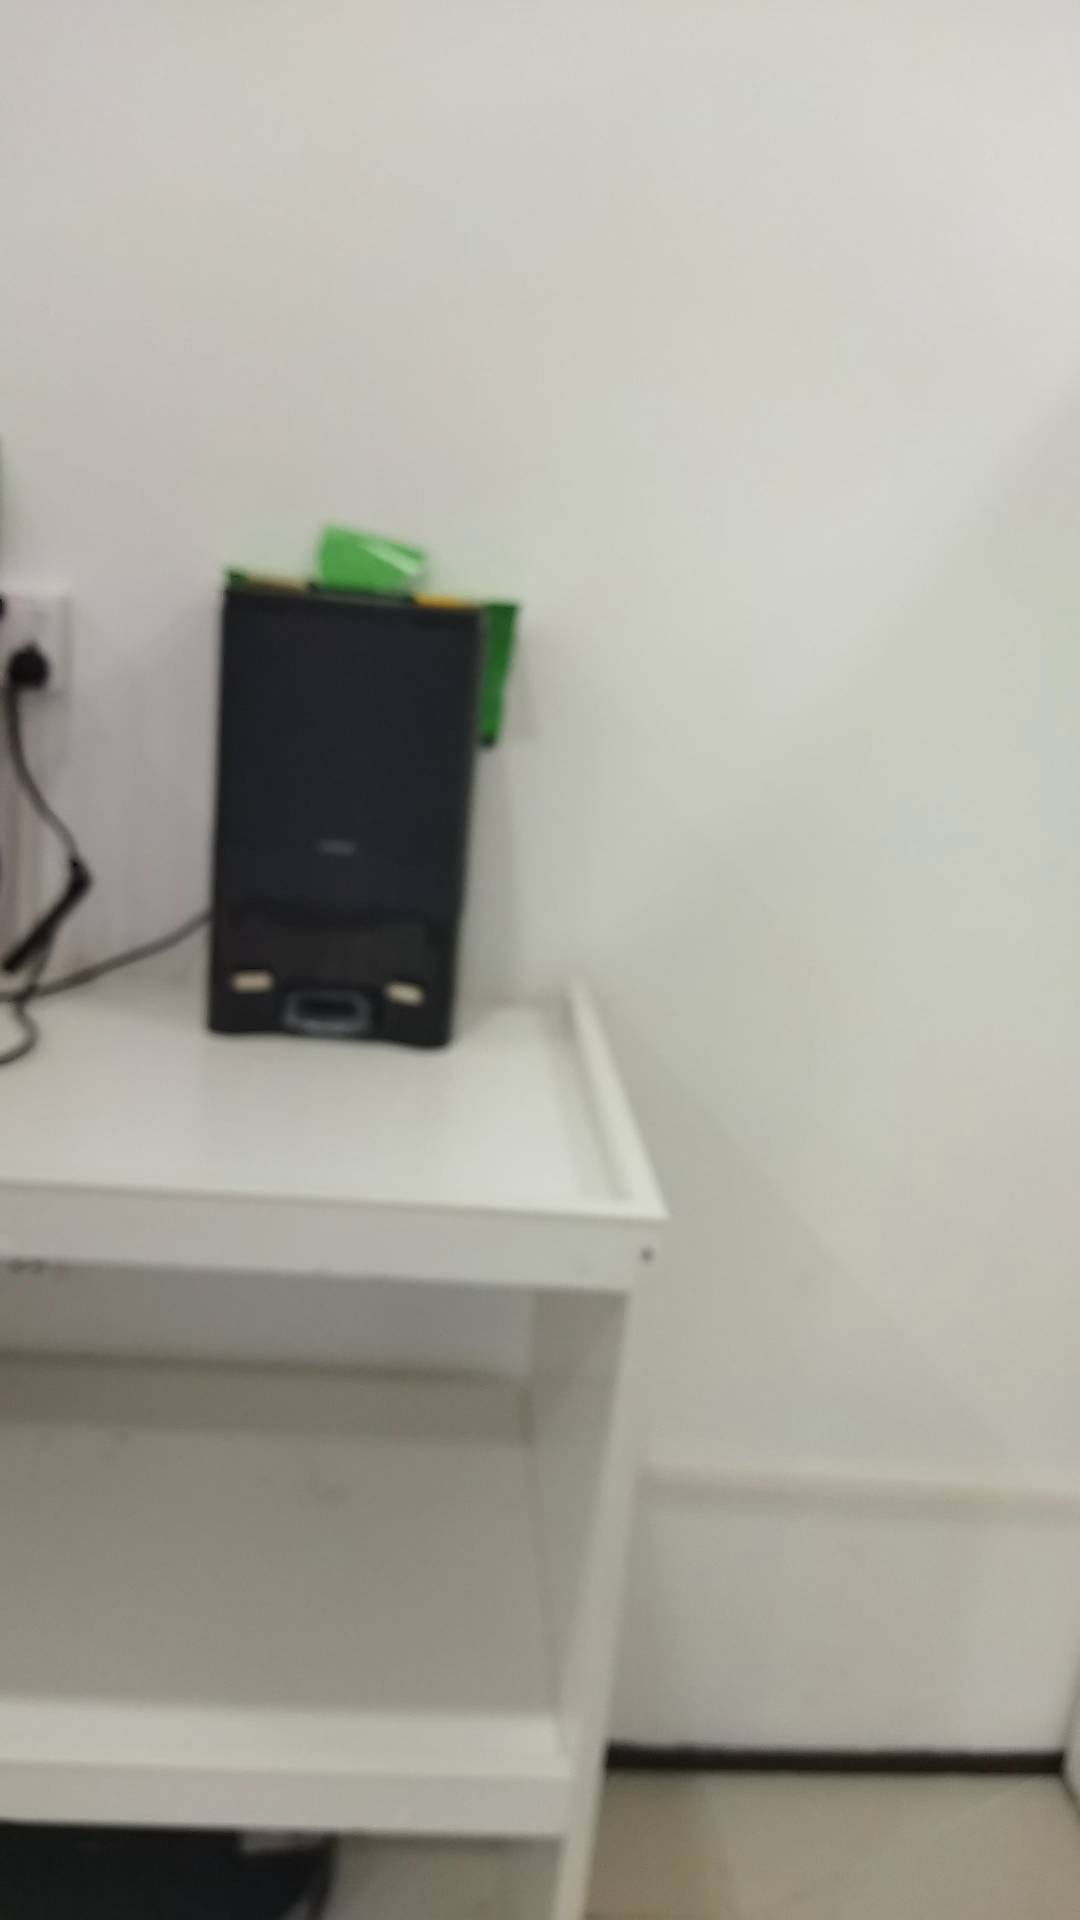dust collecting barrel: (202, 576, 489, 1056)
